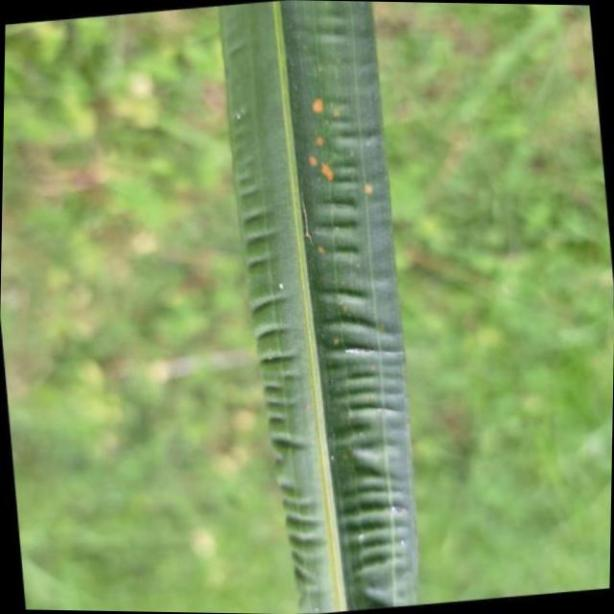Boron: (218, 0, 420, 614)
